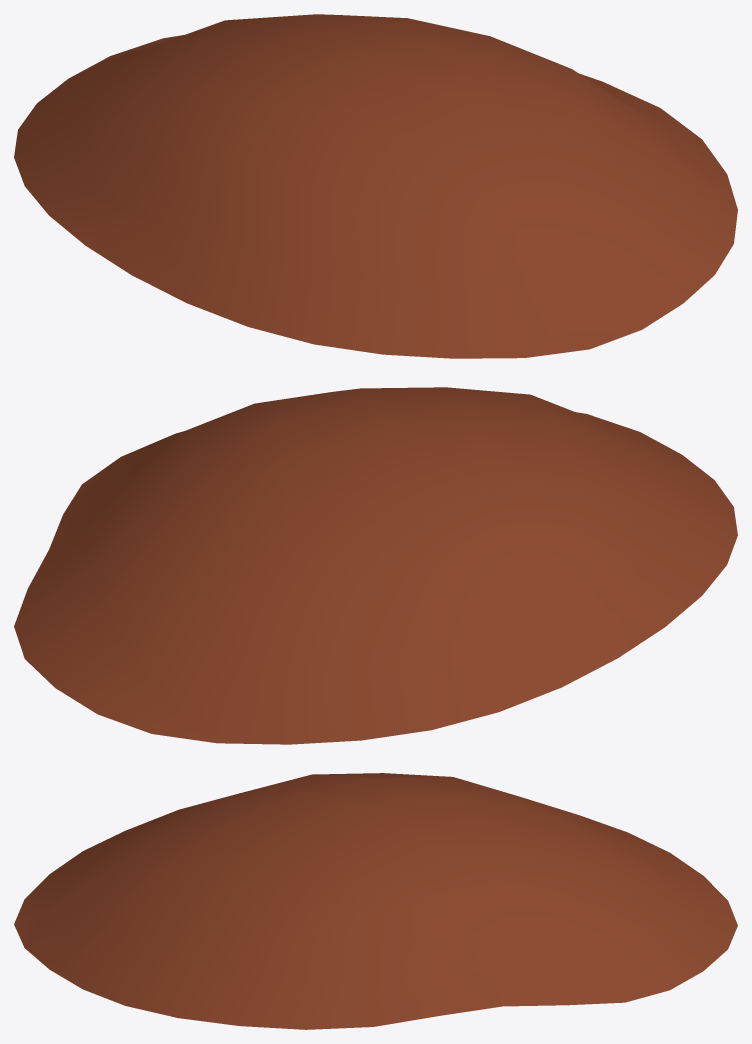
Rendered from bagCube_040.fbx.
The picture shows the model from 3 angles, top to bottom: view 1: azimuth 30°, elevation 25°; view 2: azimuth 150°, elevation 25°; view 3: azimuth 270°, elevation 25°; orthographic projection. The views are drawn at different scales.
Visible parts, largest first — view 1: Cube.040; view 2: Cube.040; view 3: Cube.040.
Boxes of the visible parts, x1,y1,x2,y2 form: Cube.040: [14, 14, 737, 358]; Cube.040: [14, 387, 737, 744]; Cube.040: [14, 773, 737, 1029].
Size of the model in its own units: 73.57 by 16.11 by 94.53.
